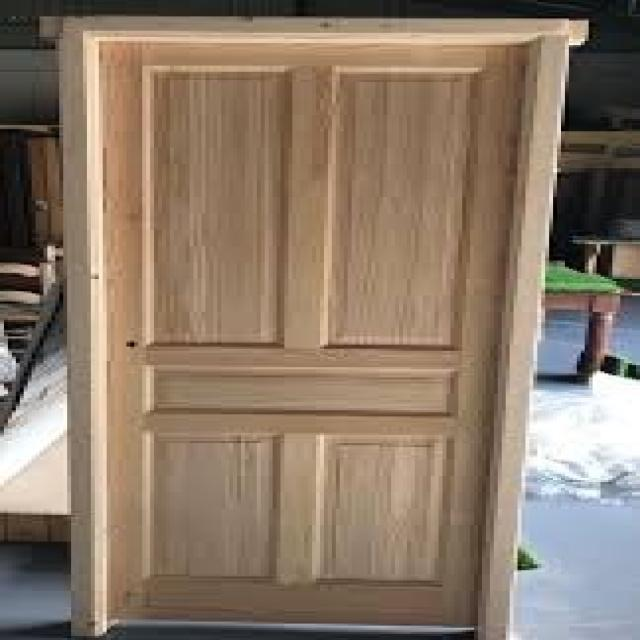door: (59, 15, 577, 639)
